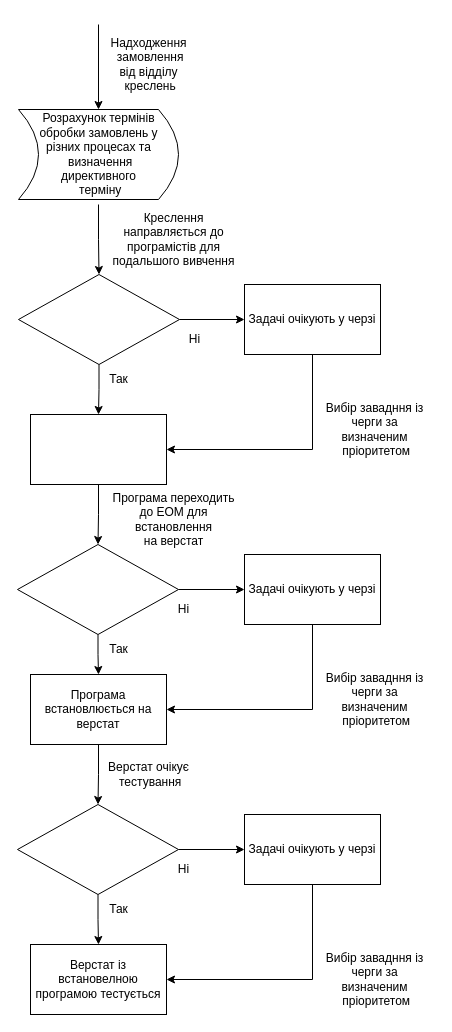
Image size: 452x1032. Some labels were removed from this diagram. The centre of each missing label's shape, as x and y in pixels:
Відділ тестування вільний?: point 97,849
ЕОМ вільний?: point 97,589
Креслення вивчається та пишеться програма: point 98,449
Чи вільний відділ програмування?: point 99,319
